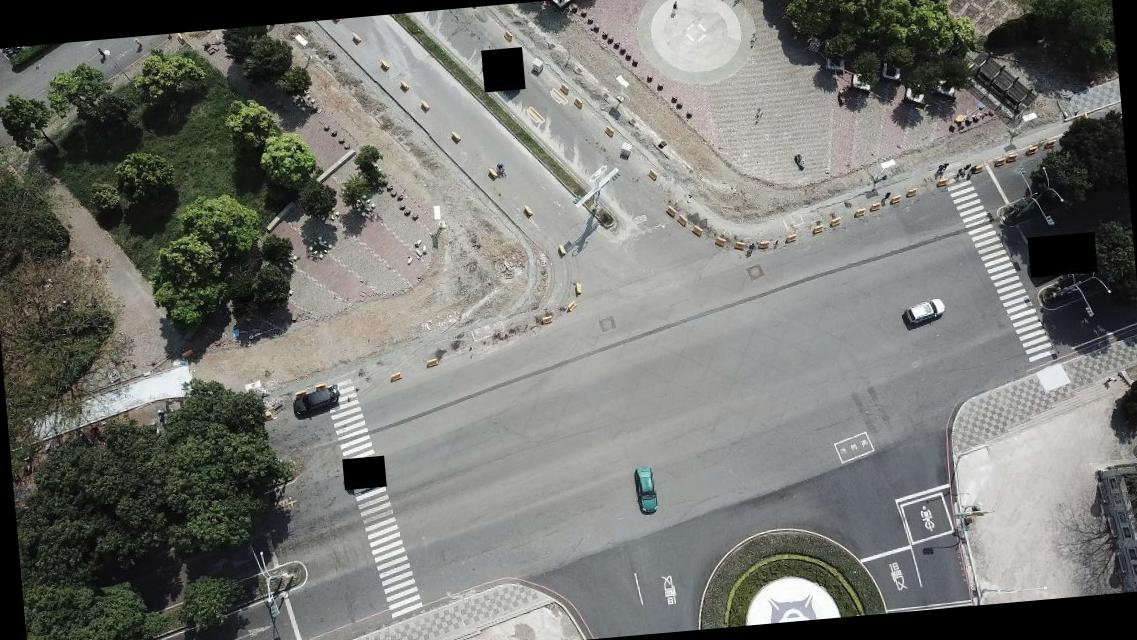vehicle: (291, 384, 340, 416), (902, 297, 946, 325), (633, 466, 658, 515)
